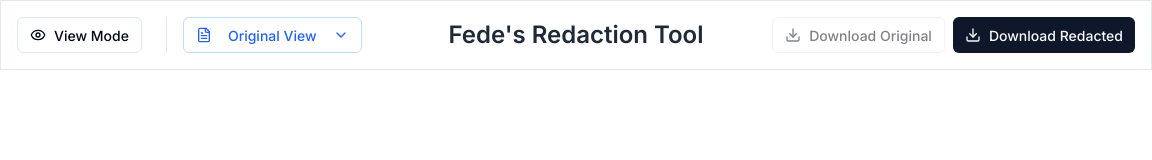
it: Toolbar › should handle edge case when no rectangles exist
Note: Toggle to redact mode
Click the button "View Mode" at point(79, 35), box 17,17 -> 142,53
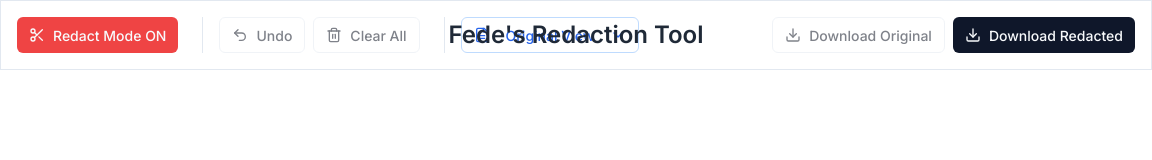
Expected: the button "Undo" is shown, 220,17 -> 305,53
Expected: the button "Clear All" is shown, 313,17 -> 420,53
